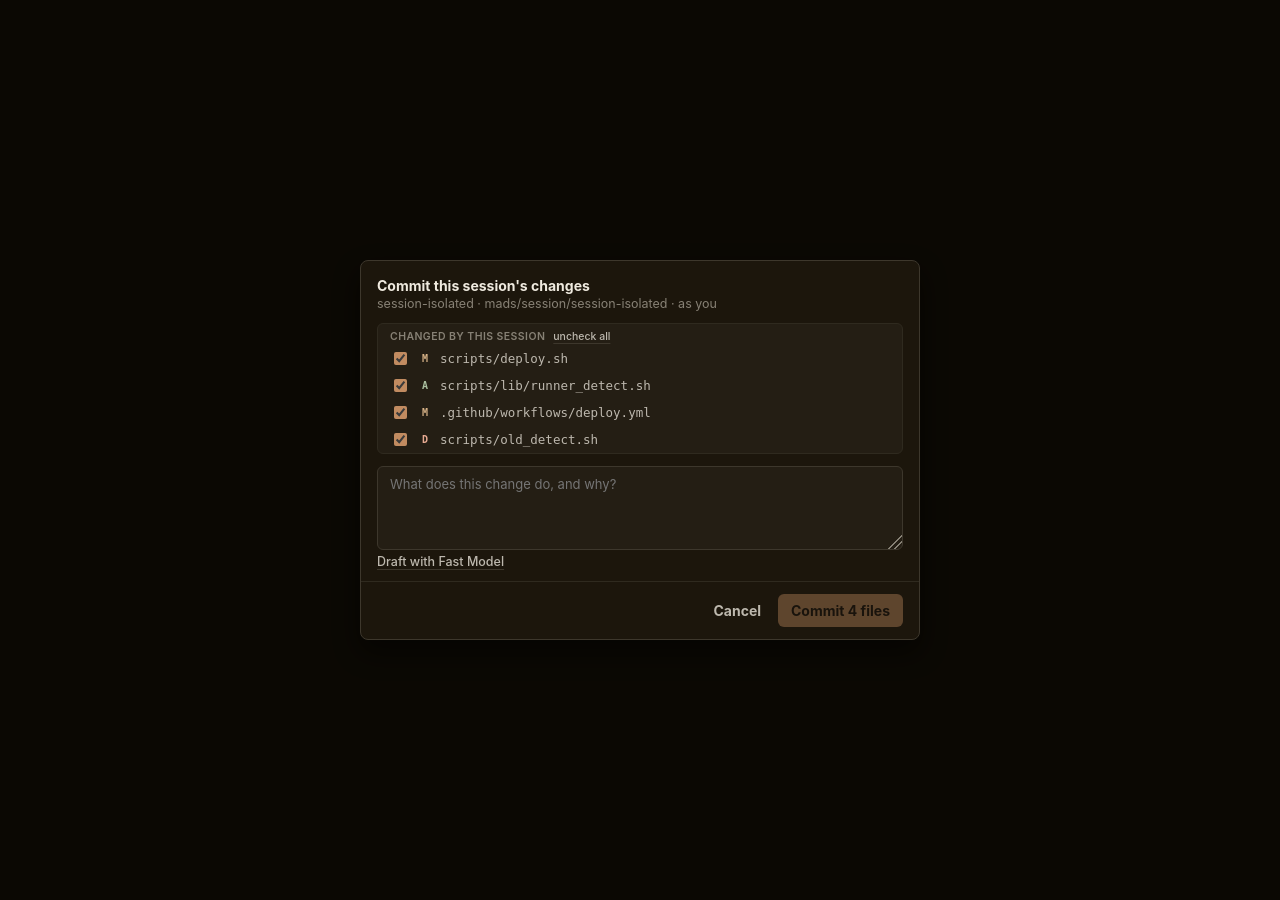
Test: CommitDialog — one repo (D2, mockup §2) › toggles a file out of the commit, and the group's check all / uncheck all
The image size is (1280, 900).
Click the checkbox named "Include scripts/old_detect.sh" at (400, 440), box [394,433,407,446]
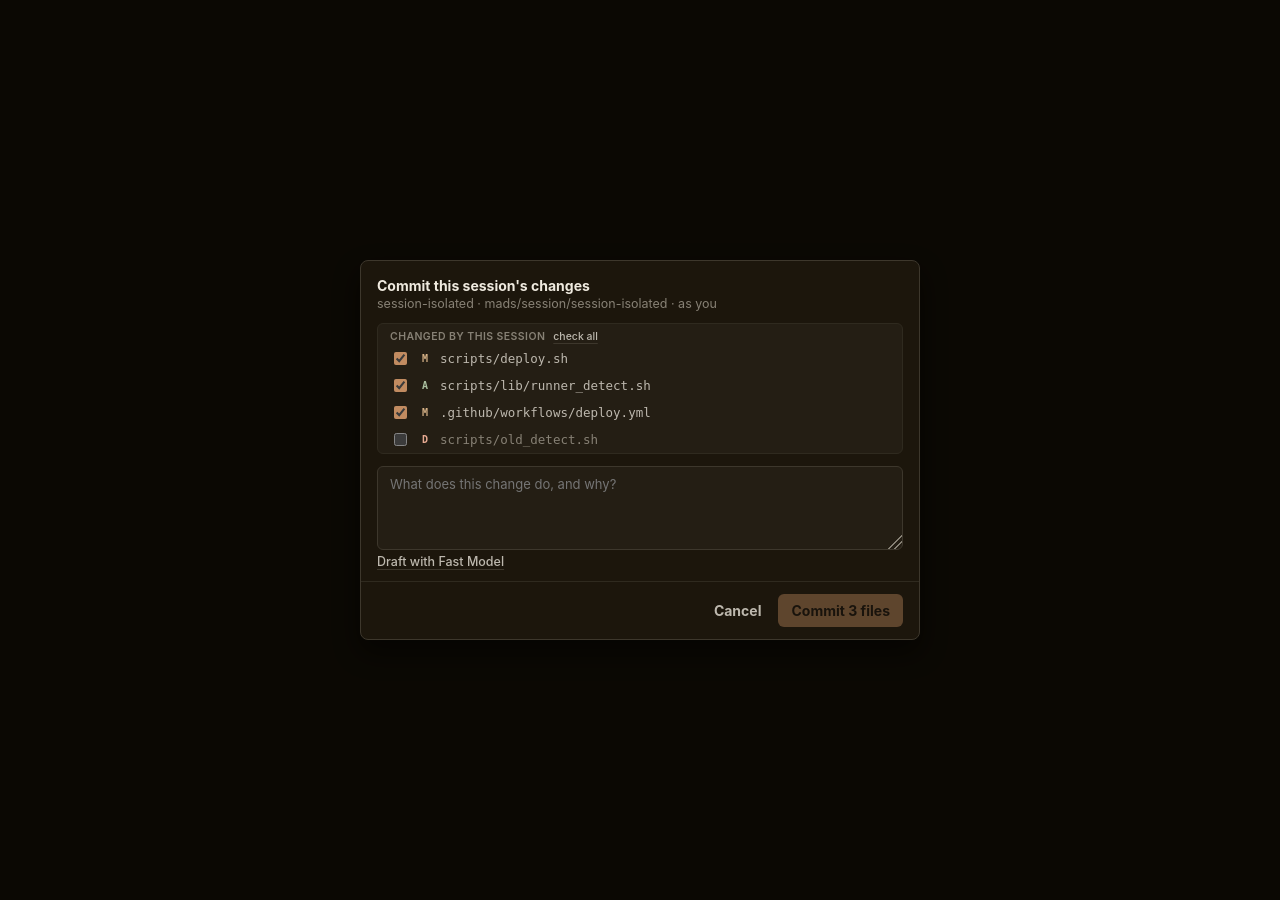
Now the button "Commit 3 files" is shown, box [778,594,903,627]
Click the button "check all" at (576, 336), box [553,330,598,343]
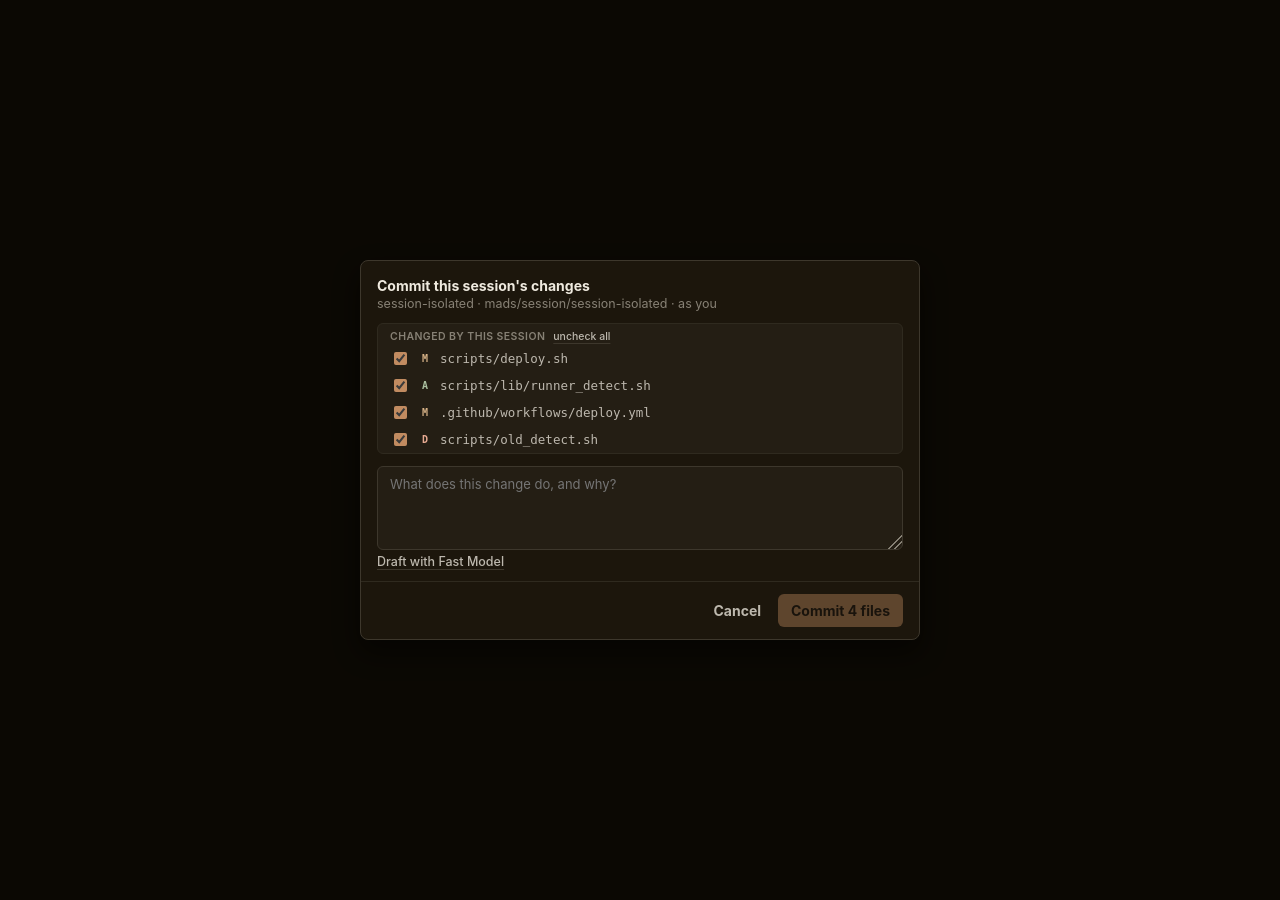
Now the button "Commit 4 files" is shown, box [778,594,903,627]
Click the button "uncheck all" at (582, 336), box [553,330,610,343]
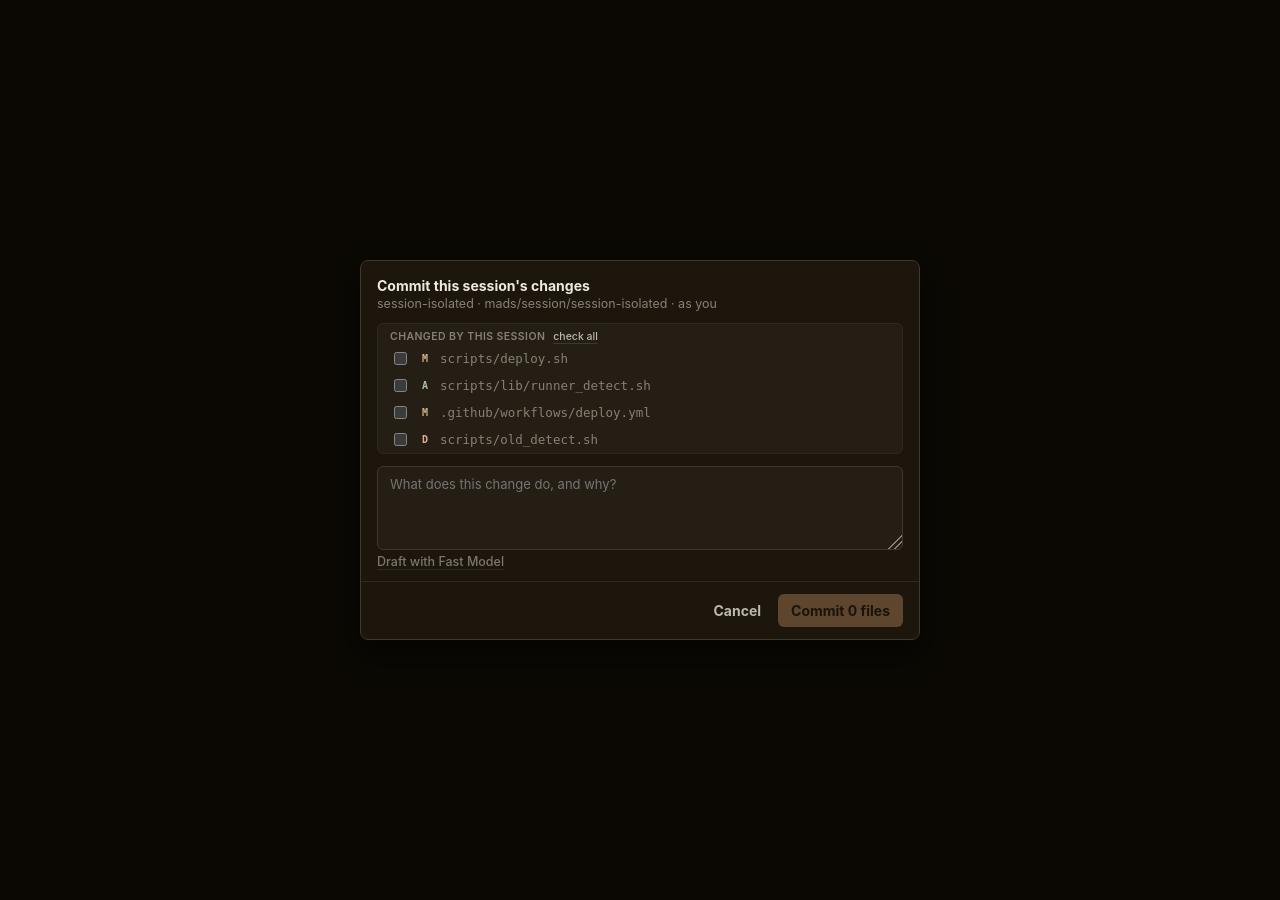
Expected: the button "Commit 0 files" is disabled, [778,594,903,627]
Now the button "Commit 0 files" is shown, box [778,594,903,627]
